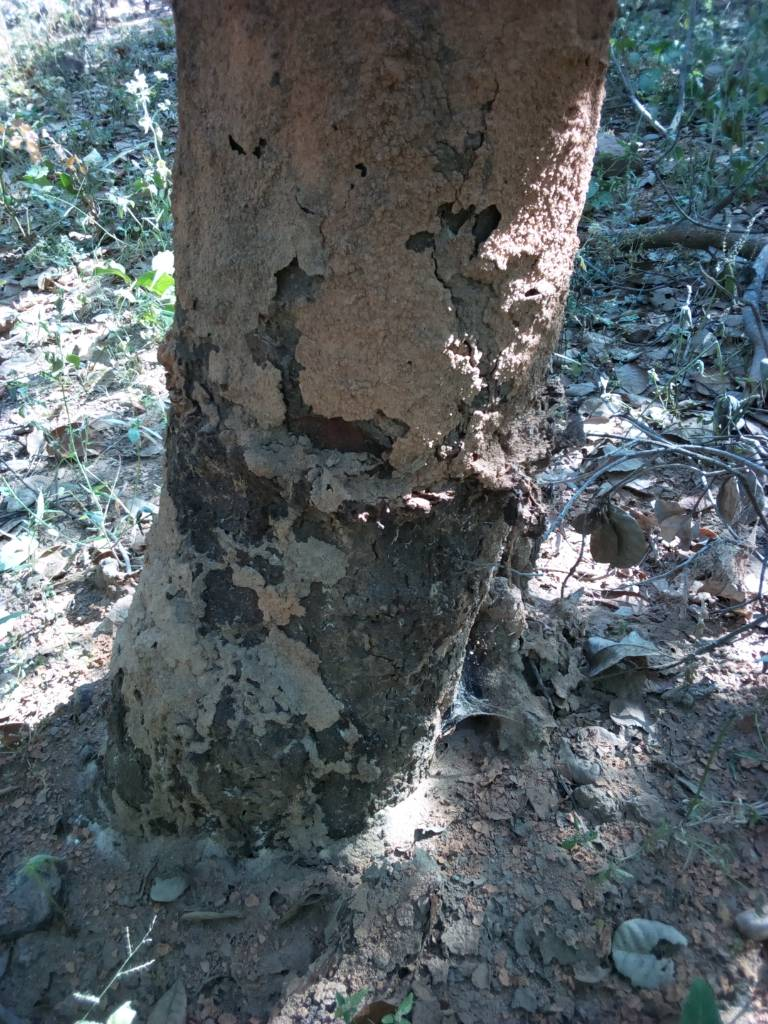Termites: (174, 5, 588, 478), (127, 536, 443, 786)
